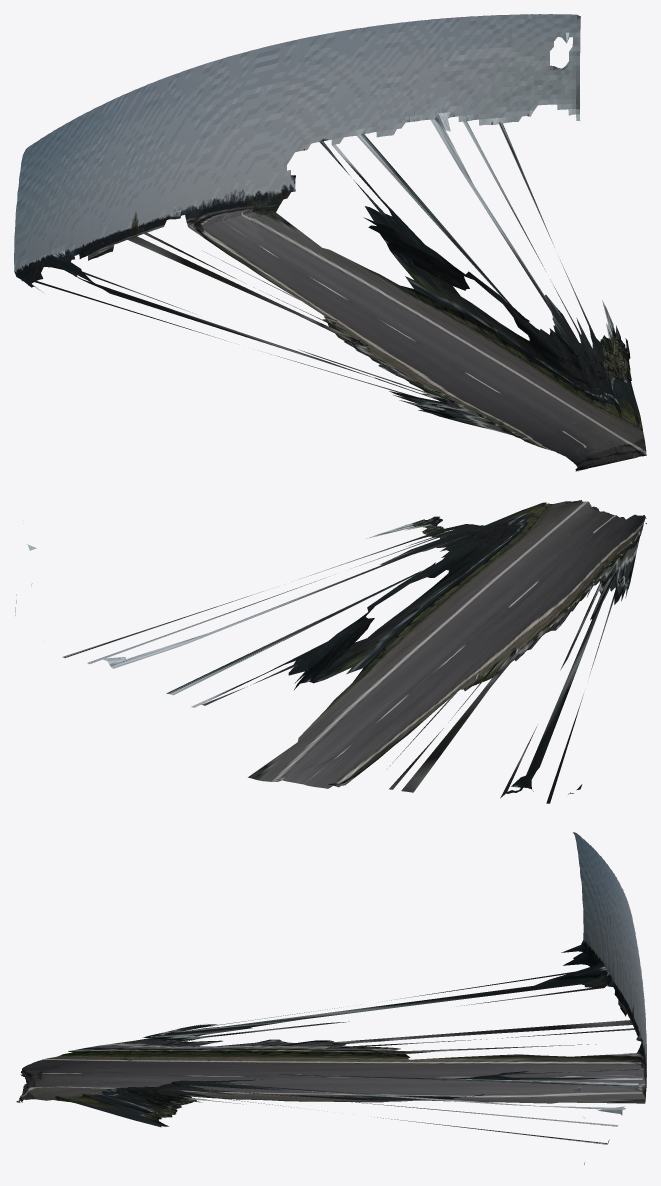
3 renders of one model, top to bottom at view 1: azimuth 30°, elevation 25°; view 2: azimuth 150°, elevation 25°; view 3: azimuth 270°, elevation 25°, orthographic. The views are drawn at different scales.
Visible parts, largest first — view 1: defaultobject; view 2: defaultobject; view 3: defaultobject.
Part boxes in pixels (x1,y1,x2,y2): defaultobject: [14, 14, 646, 471]; defaultobject: [15, 500, 646, 803]; defaultobject: [16, 832, 646, 1164].
Size of the model in its own units: 41.09 by 12.09 by 44.69.
Materials: 1 (1 with a texture image).
